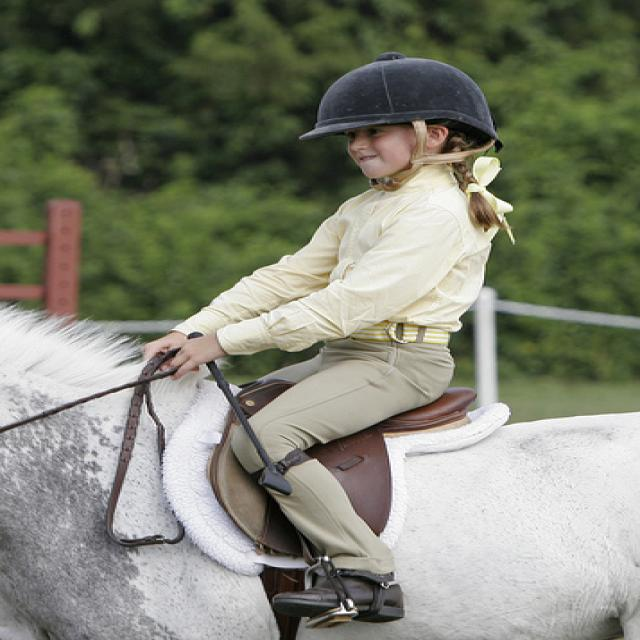horse: (1, 299, 639, 640)
